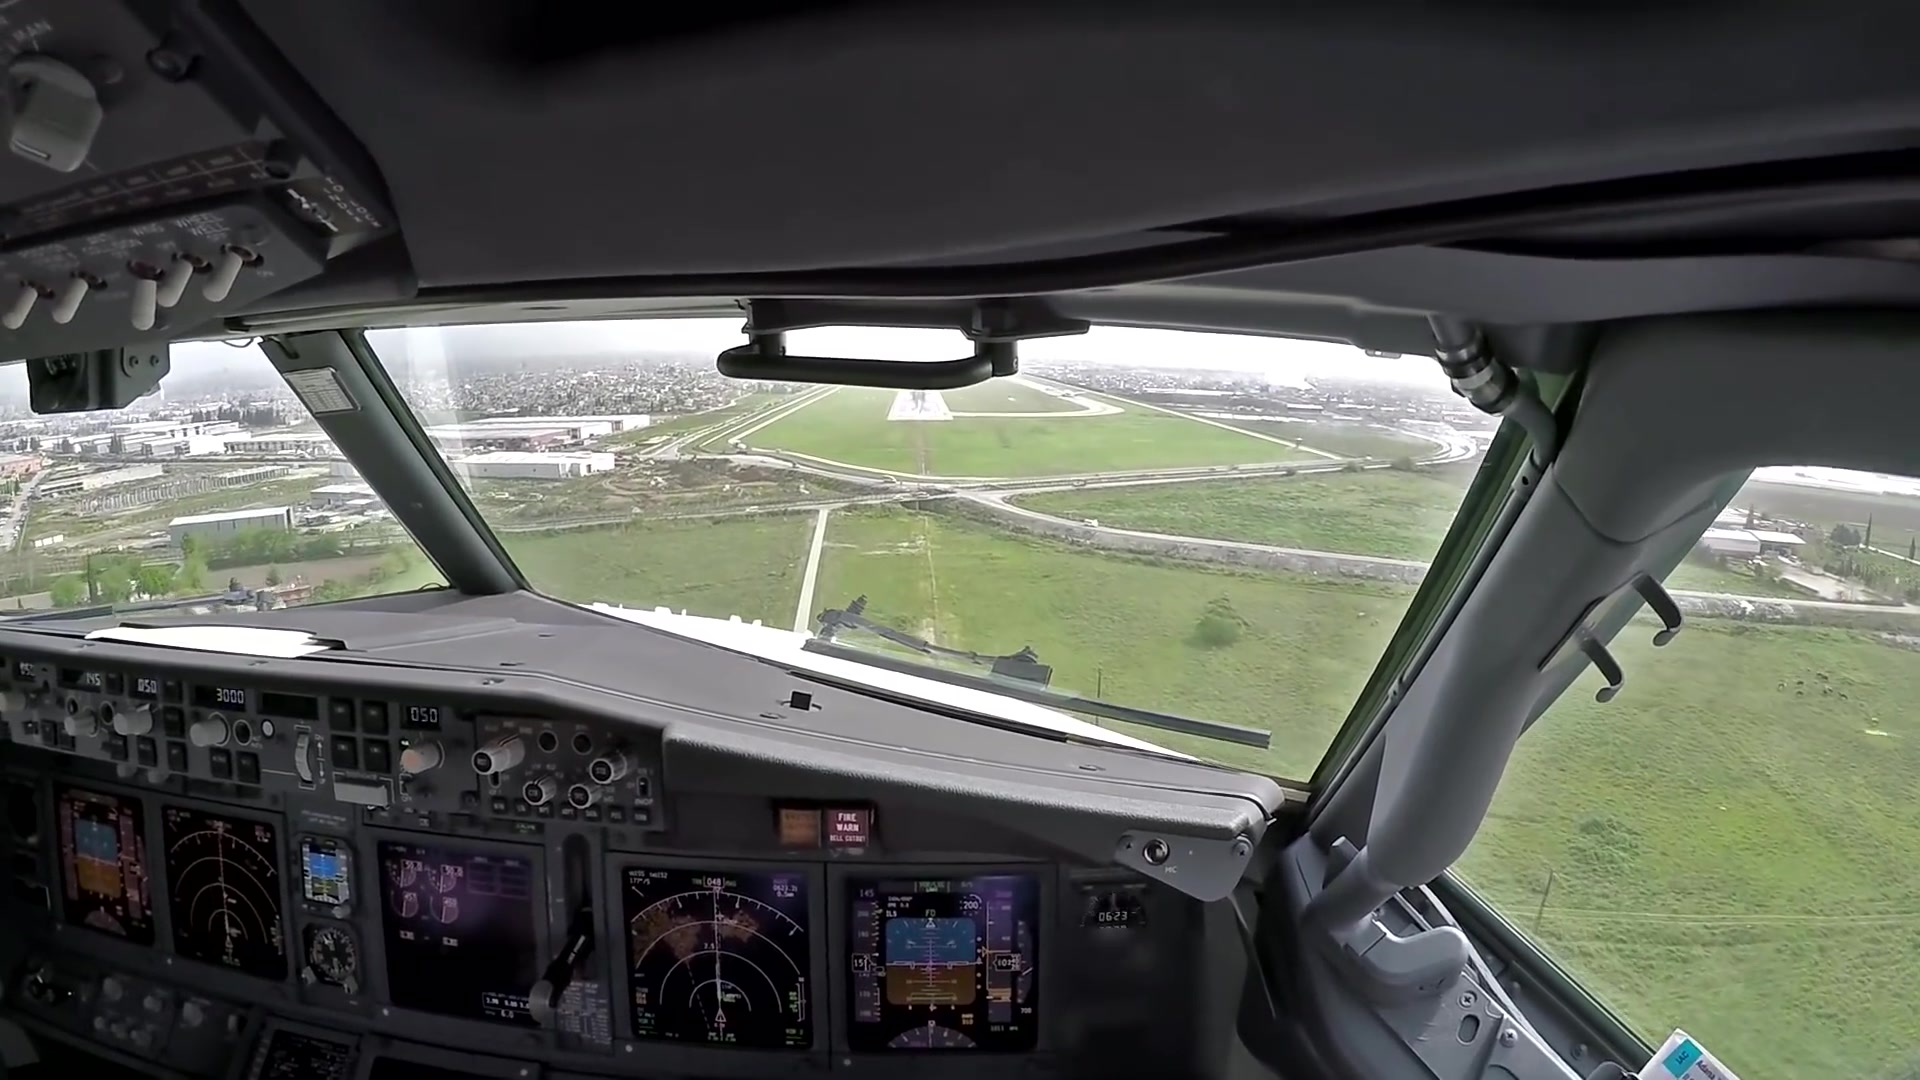runway: (885, 392, 953, 423)
